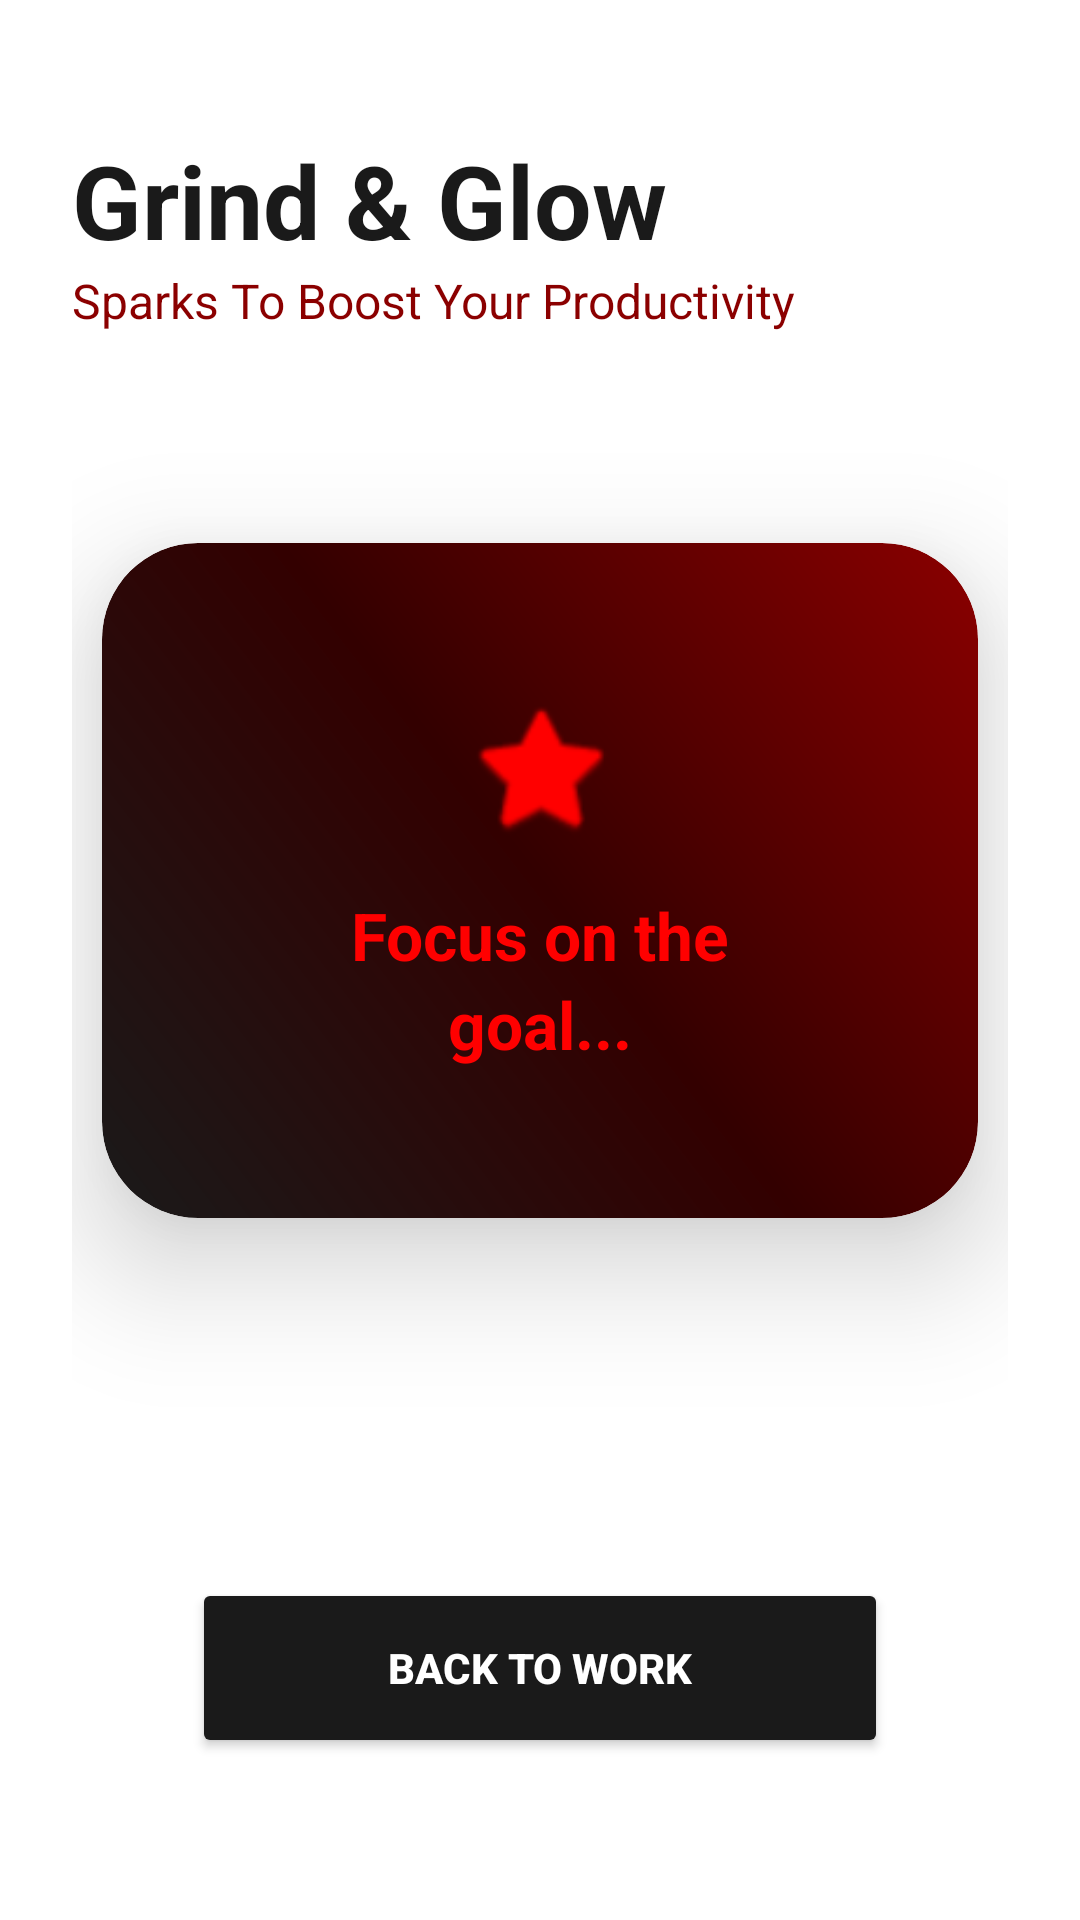

Named icons in this screenshot (1080*1920) and their centers, [x,y]:
star on: [542,769]
